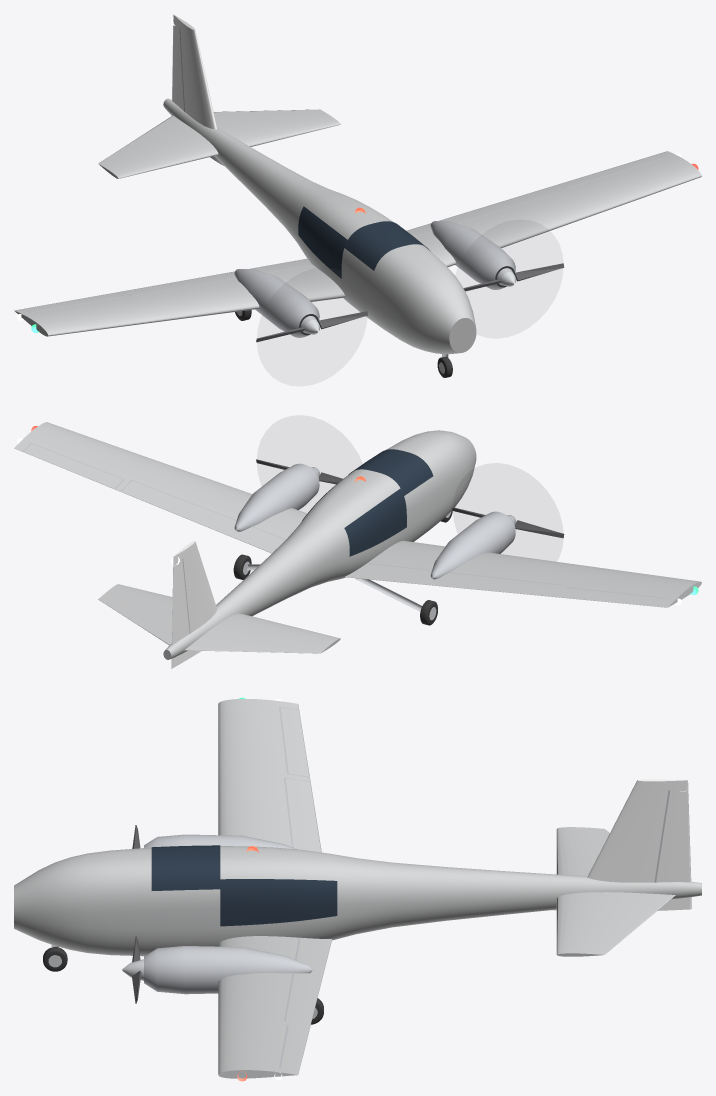
3 views of the same model, one above another, from view 1: azimuth 30°, elevation 25°; view 2: azimuth 150°, elevation 25°; view 3: azimuth 270°, elevation 25° (orthographic). The views are drawn at different scales.
Visible parts, largest first — view 1: airframe, prop; view 2: airframe, prop; view 3: airframe.
Part boxes in pixels (x1,y1,x2,y2): airframe: (14,14,701,377); prop: (256,311,368,342); airframe: (14,422,701,668); prop: (452,507,564,538); airframe: (14,697,701,1081).
Bounding box in the file's own units: 12.22 × 3.04 × 9.4.
